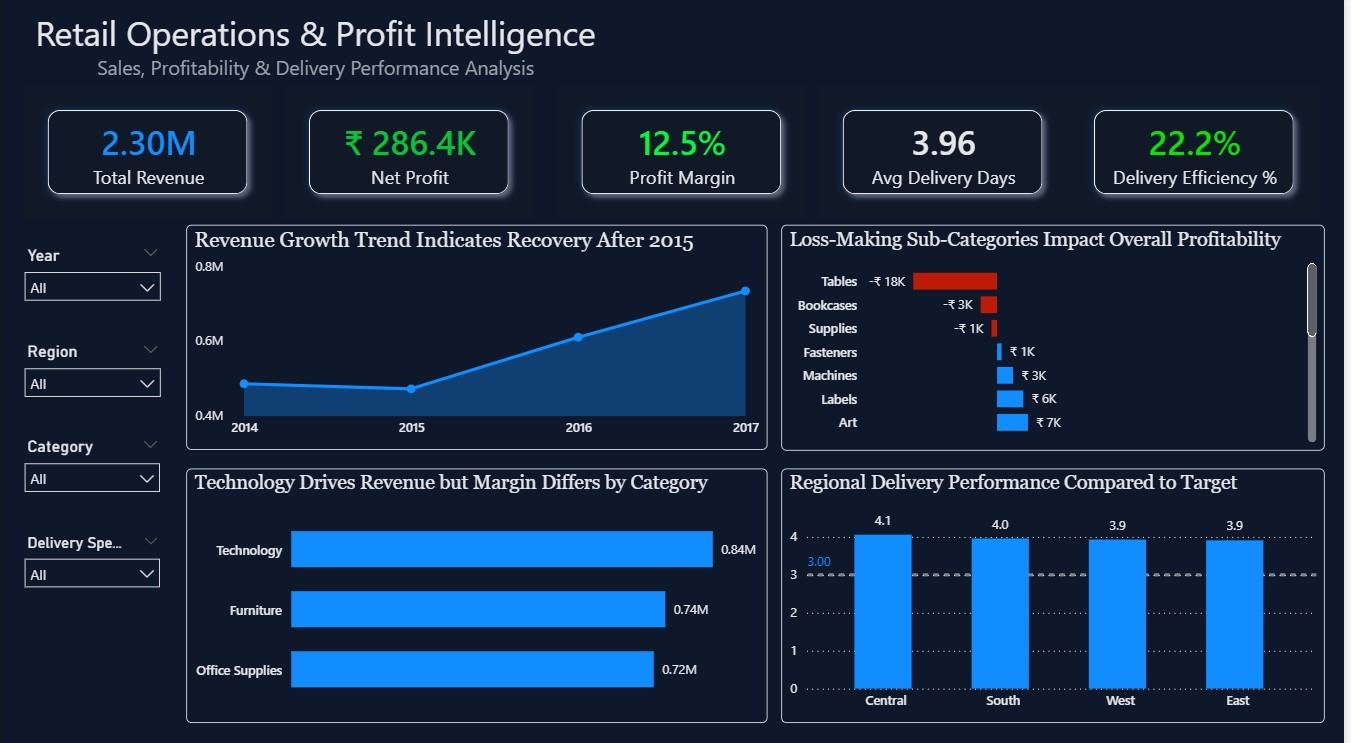

The page's visual inventory and layout, read from the dashboard file:
{"tool":"powerbi","page":{"name":"Executive Performance Overview","canvas":[1280,720],"ordinal":0},"visuals":[{"type":"textbox","box":[13.2,8.4,574.9,81.4],"z":0},{"type":"lineChart","title":"Revenue Growth Trend Indicates Recovery After 2015","fields":{"Y":["Fact_Sales.Total sales"],"Category":["Date Table.Year"]},"box":[177.4,217.9,553.6,214.3],"z":1000},{"type":"clusteredBarChart","title":"Technology Drives Revenue but Margin Differs by Category","fields":{"Category":["Fact_Sales.Category"],"Y":["Fact_Sales.Total sales"]},"box":[176.9,449.5,553.5,242.7],"z":2000},{"type":"barChart","title":"Loss-Making Sub-Categories Impact Overall Profitability","fields":{"Category":["Fact_Sales.Sub Category"],"Y":["Fact_Sales.Total Profit"]},"box":[743.5,217.6,517.6,215.2],"z":3000},{"type":"slicer","fields":{"Values":["Date Table.Year"]},"box":[13.2,233.5,149.7,71.9],"z":4000},{"type":"slicer","fields":{"Values":["Fact_Sales.Region"]},"box":[13.2,324.6,149.7,71.9],"z":5000},{"type":"slicer","fields":{"Values":["Fact_Sales.Category"]},"box":[13.5,415.7,149.5,72.3],"z":6000},{"type":"slicer","fields":{"Values":["Fact_Sales.Delivery Speed"]},"box":[13.5,507.2,149.5,76],"z":7000},{"type":"columnChart","title":"Regional Delivery Performance Compared to Target","fields":{"Category":["Fact_Sales.Region"],"Y":["Fact_Sales.Avg Delivery Days"]},"box":[743.5,449.5,517.6,242.7],"z":8000},{"type":"cardVisual","fields":{"Data":["Fact_Sales.Total Profit"]},"box":[265.5,79.8,248.8,138.1],"z":9000},{"type":"cardVisual","fields":{"Data":["Fact_Sales.Total sales"]},"box":[16.7,79.8,248.8,138.1],"z":10000},{"type":"cardVisual","fields":{"Data":["Fact_Sales.Profit Margin %"]},"box":[525,79.8,248.8,138.1],"z":11000},{"type":"cardVisual","fields":{"Data":["Fact_Sales.Avg Delivery Days"]},"box":[773.8,79.8,248.8,138.1],"z":12000},{"type":"cardVisual","fields":{"Data":["Fact_Sales.Fast Delivery %"]},"box":[1013.1,79.8,248.8,138.1],"z":13000}]}

Visuals, with their boxes in screenshot pixels (x1, y1, x2, y2), scaled from the page's 1280x720 canvas onto the 1351x743 screenshot:
textbox: Rect(14, 9, 621, 93)
"Revenue Growth Trend Indicates Recovery After 2015" lineChart: Rect(187, 225, 772, 446)
"Technology Drives Revenue but Margin Differs by Category" clusteredBarChart: Rect(187, 464, 771, 714)
"Loss-Making Sub-Categories Impact Overall Profitability" barChart: Rect(785, 225, 1331, 447)
slicer - Date Table.Year: Rect(14, 241, 172, 315)
slicer - Fact_Sales.Region: Rect(14, 335, 172, 409)
slicer - Fact_Sales.Category: Rect(14, 429, 172, 504)
slicer - Fact_Sales.Delivery Speed: Rect(14, 523, 172, 602)
"Regional Delivery Performance Compared to Target" columnChart: Rect(785, 464, 1331, 714)
cardVisual - Fact_Sales.Total Profit: Rect(280, 82, 543, 225)
cardVisual - Fact_Sales.Total sales: Rect(18, 82, 280, 225)
cardVisual - Fact_Sales.Profit Margin %: Rect(554, 82, 817, 225)
cardVisual - Fact_Sales.Avg Delivery Days: Rect(817, 82, 1079, 225)
cardVisual - Fact_Sales.Fast Delivery %: Rect(1069, 82, 1332, 225)
